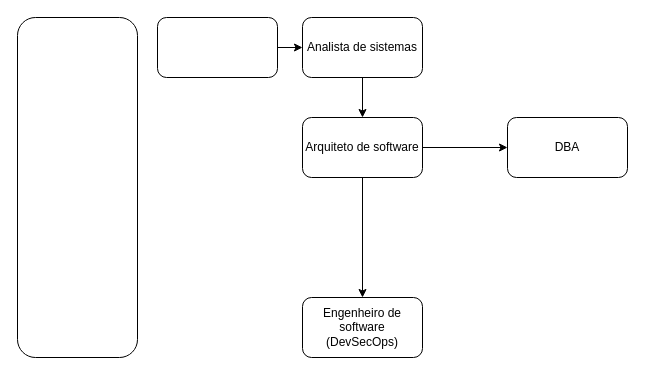
Image size: 645x375. Some labels were removed from this diagram. The shapes that lost their labels are listed below. From the top down, each one's box as (x1, y1, x2, y2) in pixels, then its label:
(156, 16, 278, 78): Analista de negócios
(16, 16, 138, 358): DPO
